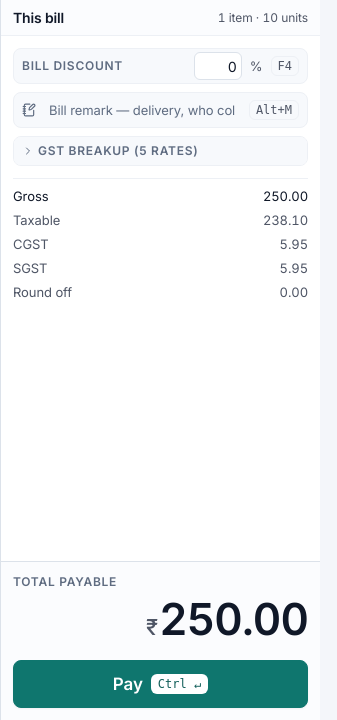
Test case: BillRail › collapses a five-rate breakup so it cannot push the total off screen
The width and height of the screenshot is (337, 720).
# Collapsed is a default, not a lock: the filing detail is one keystroke away.
Click the button "GST breakup (5 rates)": (160, 151) x1=14 y1=137 x2=307 y2=165
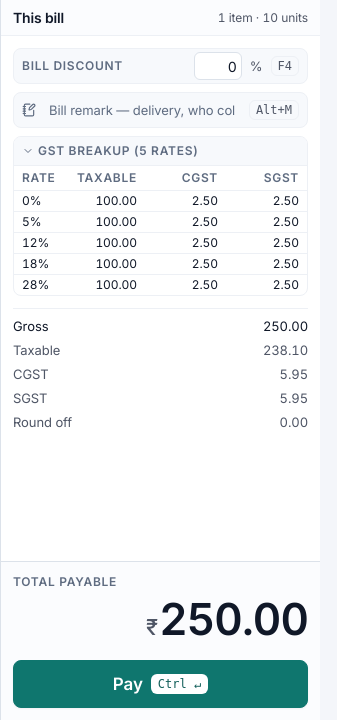
expect the number of elements with test id "gst-row" is 5: met, box x1=14 y1=190 x2=307 y2=211; x1=14 y1=211 x2=307 y2=232; x1=14 y1=232 x2=307 y2=253; x1=14 y1=253 x2=307 y2=274; x1=14 y1=274 x2=307 y2=295
